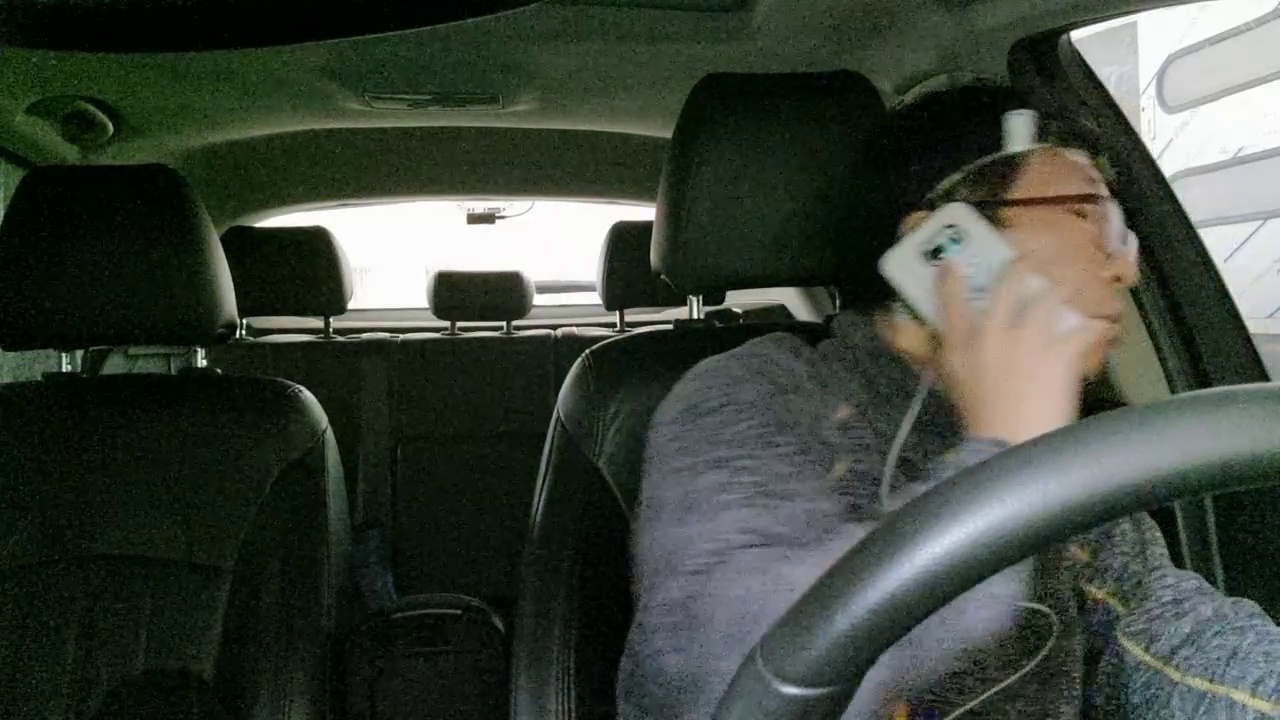phone: (856, 178, 1078, 417)
